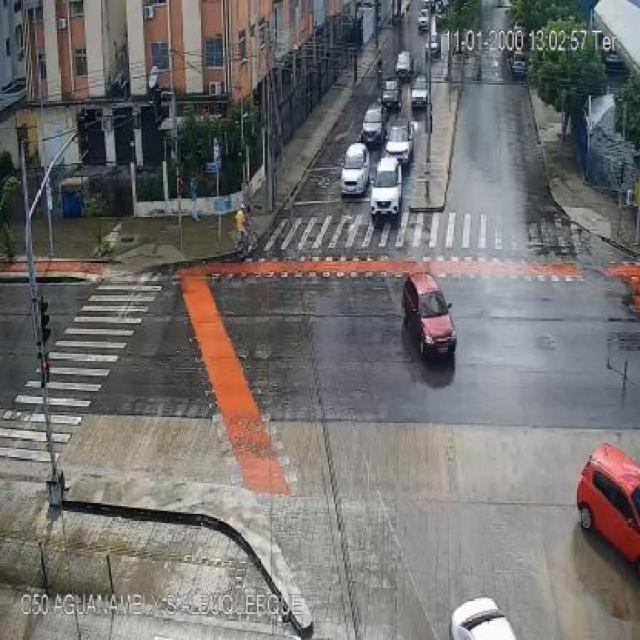Car: (565, 435, 640, 569), (393, 262, 466, 368), (433, 585, 513, 640), (360, 157, 403, 224), (340, 136, 370, 199), (385, 113, 416, 169), (390, 43, 418, 83), (359, 104, 382, 148), (408, 75, 429, 115), (505, 42, 528, 76), (409, 4, 434, 34), (382, 79, 403, 109), (424, 35, 444, 61)
Cycle: (228, 200, 260, 256)
